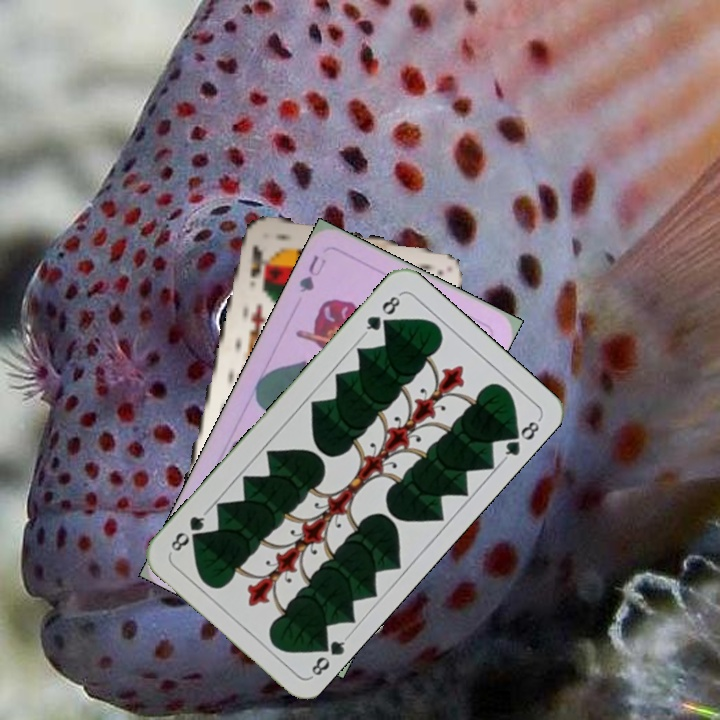G8: (359, 290, 404, 338), (307, 632, 351, 680)
GU: (295, 251, 329, 296)
SK: (245, 240, 266, 280)
